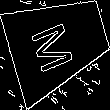M_E: (32, 13, 84, 74)
